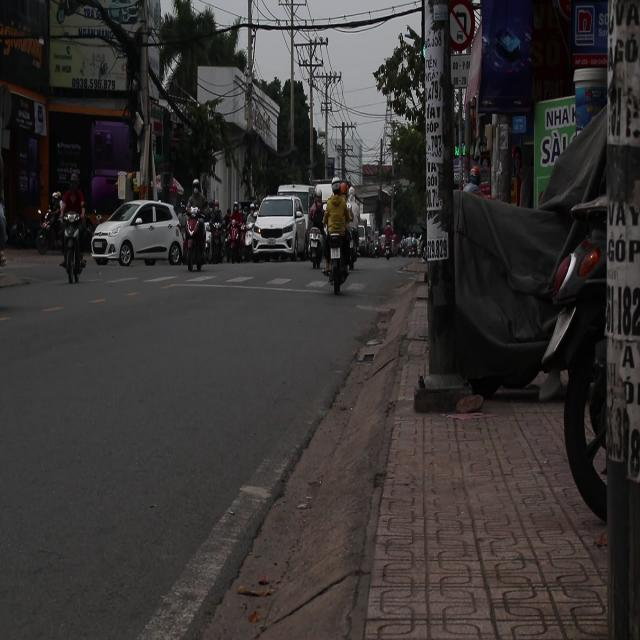car: (92, 200, 186, 267), (249, 195, 307, 262)
motorbike: (49, 202, 89, 284), (320, 202, 358, 286), (180, 206, 213, 276), (300, 204, 328, 284), (221, 204, 244, 276)
